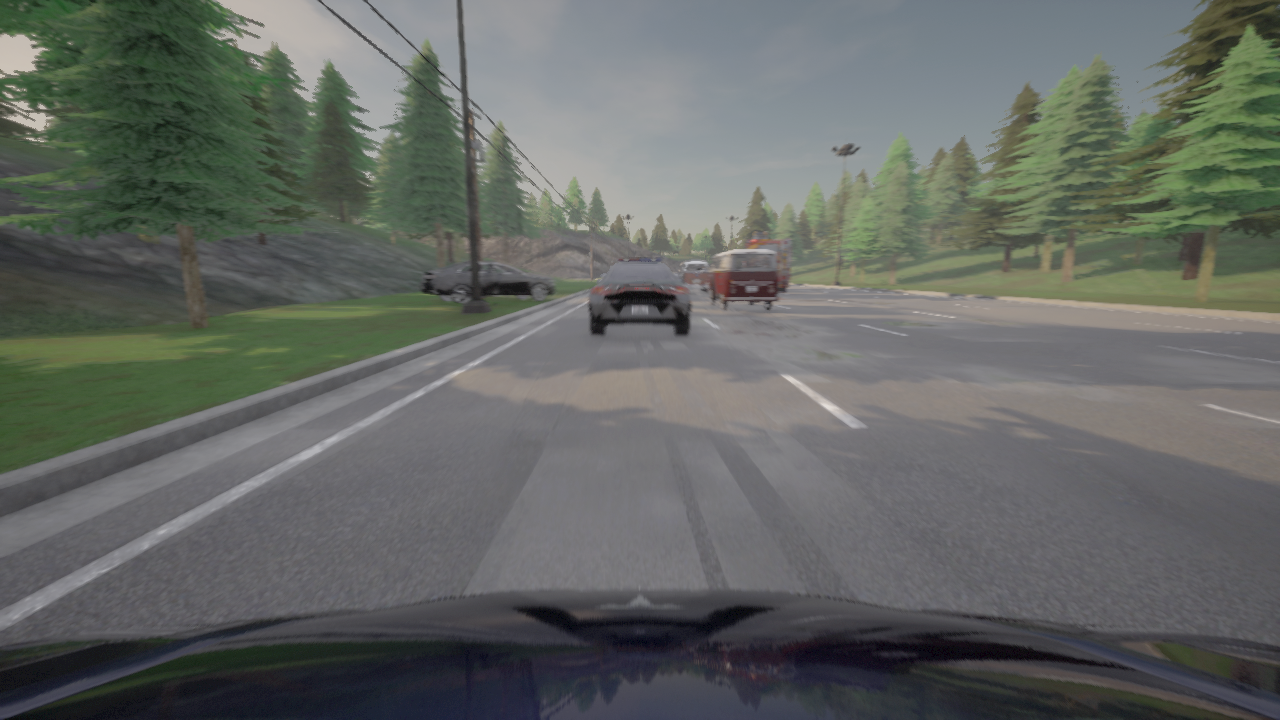cyclist: (0, 588, 1279, 719), (589, 258, 690, 335), (420, 261, 556, 303), (706, 249, 778, 310), (745, 232, 790, 291), (676, 260, 708, 292)
